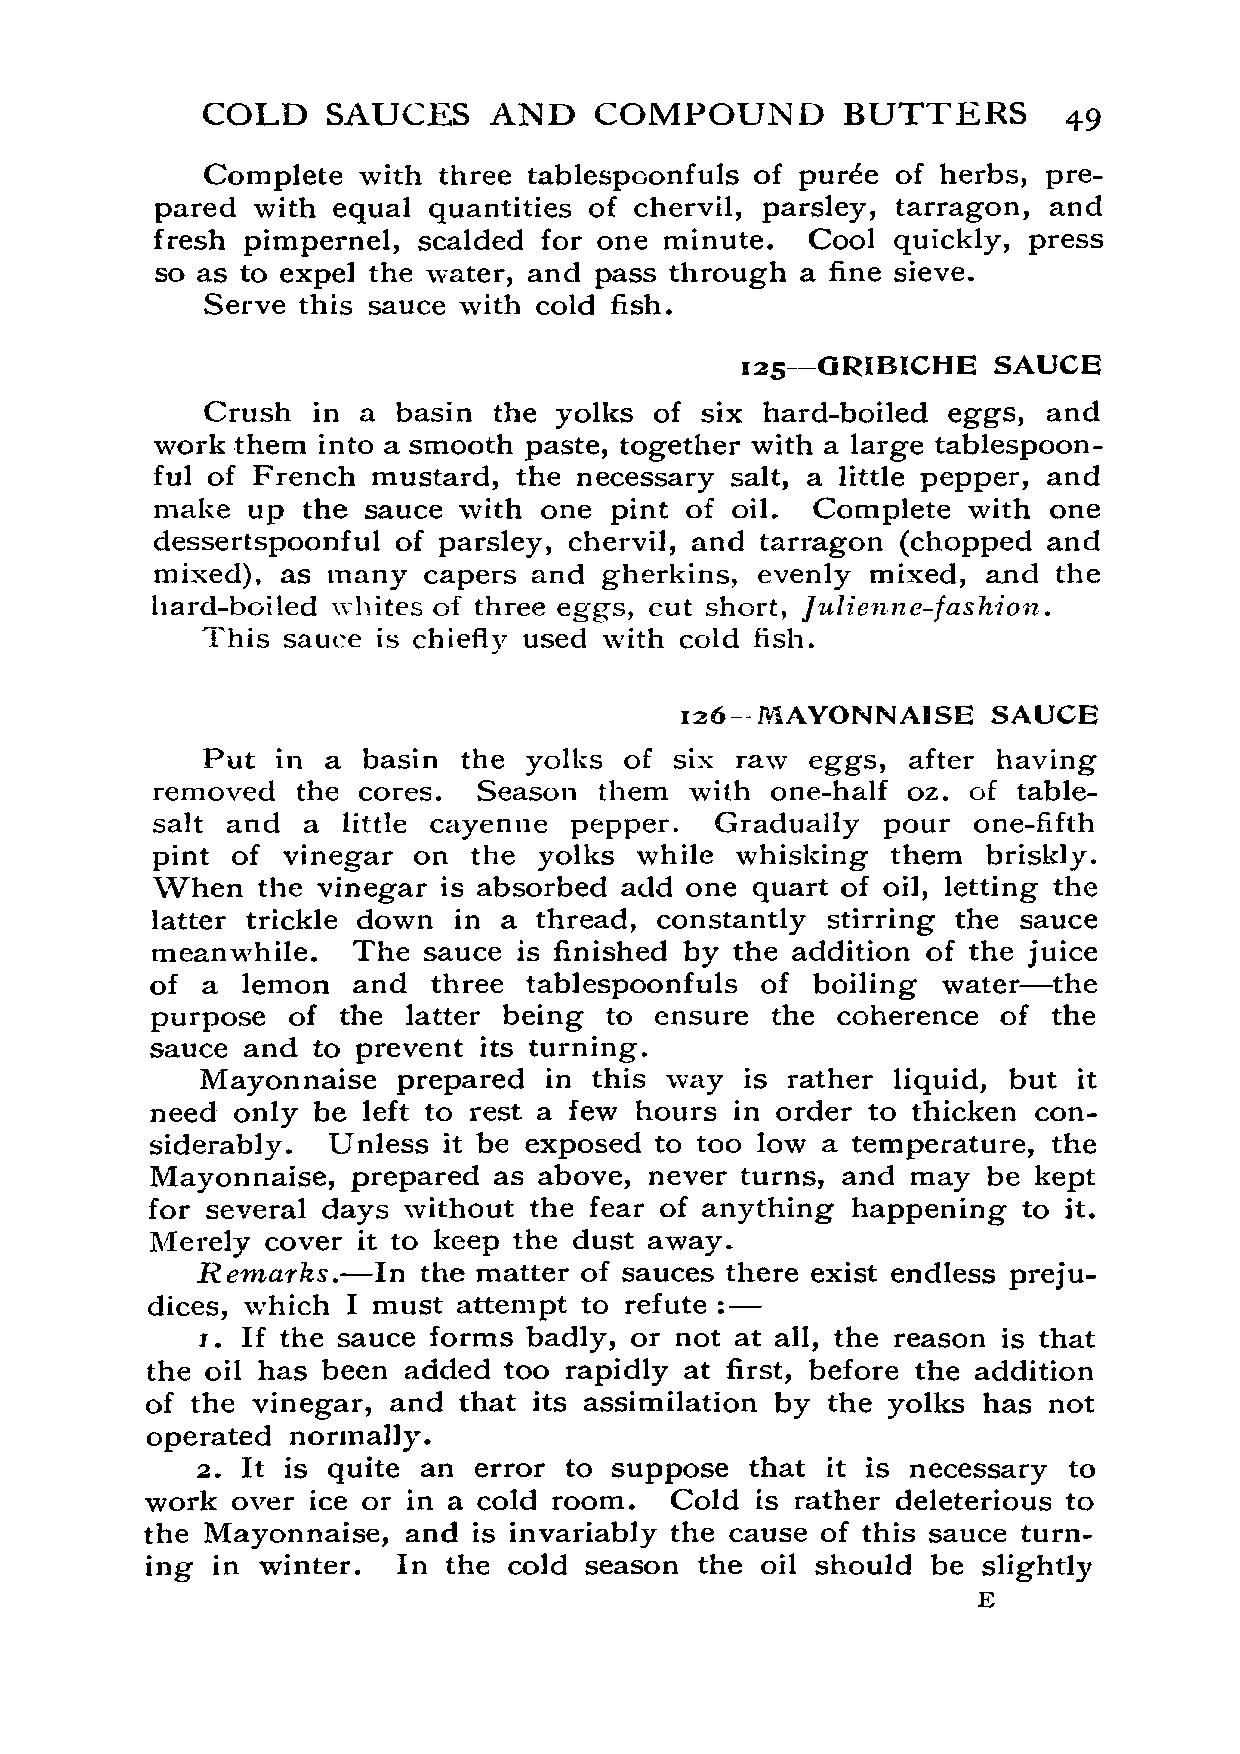chapter: (723, 345, 1106, 382), (678, 701, 1100, 727)
content: (141, 741, 1100, 1588), (144, 395, 1103, 654), (141, 162, 1108, 329)
content_chapter: (196, 99, 1028, 129)
content_pagenumber: (1062, 101, 1103, 136)
